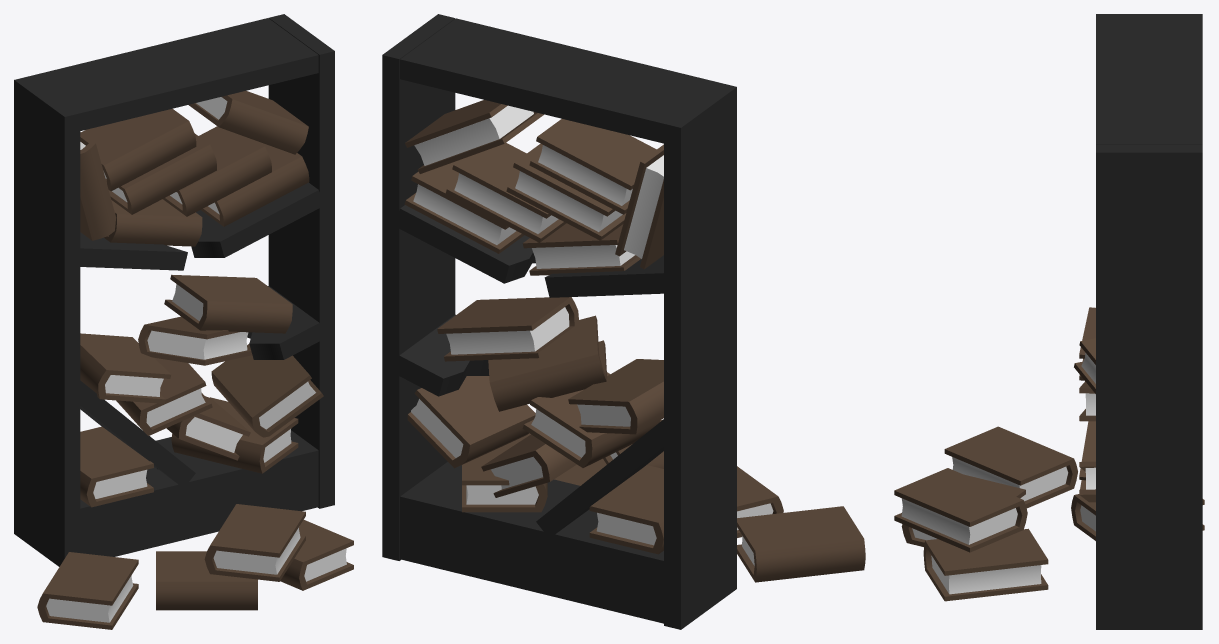
Rendered from Destroyed_bookshelf.fbx.
3 renders of one model, left to right at view 1: azimuth 30°, elevation 25°; view 2: azimuth 150°, elevation 25°; view 3: azimuth 270°, elevation 25°, orthographic. The views are drawn at different scales.
Visible parts, largest first — view 1: polySurface1579, polySurface1537, polySurface1541, polySurface1536, polySurface2546, polySurface2545, polySurface2554, polySurface2541, polySurface2553, polySurface2219, polySurface2540, polySurface2543 (+15 smaller); view 2: polySurface1579, polySurface1537, polySurface1536, polySurface1541, polySurface2546, polySurface2554, polySurface2553, polySurface2541, polySurface2542, polySurface2549, polySurface2540, polySurface2552 (+14 smaller); view 3: polySurface1537, polySurface1541, polySurface2545, polySurface2544, polySurface2546, polySurface2217, polySurface1579, polySurface2219, polySurface2542, polySurface2538, polySurface2541, polySurface2539 (+1 smaller).
Part boxes in pixels (x1,y1,x2,y2): polySurface1579: [14, 76, 80, 566]; polySurface1537: [268, 14, 334, 508]; polySurface1541: [29, 18, 318, 131]; polySurface1536: [79, 430, 318, 556]; polySurface2546: [37, 552, 138, 629]; polySurface2545: [204, 504, 305, 581]; polySurface2554: [164, 274, 292, 333]; polySurface2541: [211, 344, 323, 437]; polySurface2553: [81, 108, 196, 191]; polySurface2219: [156, 551, 257, 610]; polySurface2540: [80, 333, 171, 403]; polySurface2543: [80, 426, 153, 507]; polySurface1579: [664, 83, 736, 629]; polySurface1537: [382, 14, 455, 560]; polySurface1536: [400, 462, 664, 623]; polySurface1541: [400, 18, 719, 143]; polySurface2546: [737, 506, 865, 582]; polySurface2554: [437, 297, 578, 361]; polySurface2553: [529, 119, 656, 214]; polySurface2541: [407, 376, 535, 468]; polySurface2542: [488, 315, 607, 411]; polySurface2549: [445, 142, 566, 242]; polySurface2540: [568, 359, 663, 434]; polySurface2552: [405, 100, 543, 173]; polySurface1537: [1096, 144, 1202, 629]; polySurface1541: [1096, 21, 1202, 144]; polySurface2545: [894, 468, 1027, 552]; polySurface2544: [923, 528, 1048, 601]; polySurface2546: [944, 426, 1077, 508]; polySurface2217: [1071, 494, 1204, 540]; polySurface1579: [1096, 14, 1202, 21]; polySurface2219: [901, 474, 1025, 546]; polySurface2542: [1074, 338, 1095, 393]; polySurface2538: [1079, 421, 1095, 489]; polySurface2541: [1079, 461, 1095, 502]; polySurface2539: [1079, 381, 1095, 421].
Bounding box in the file's own units: 1.68 × 2.14 × 1.26.
